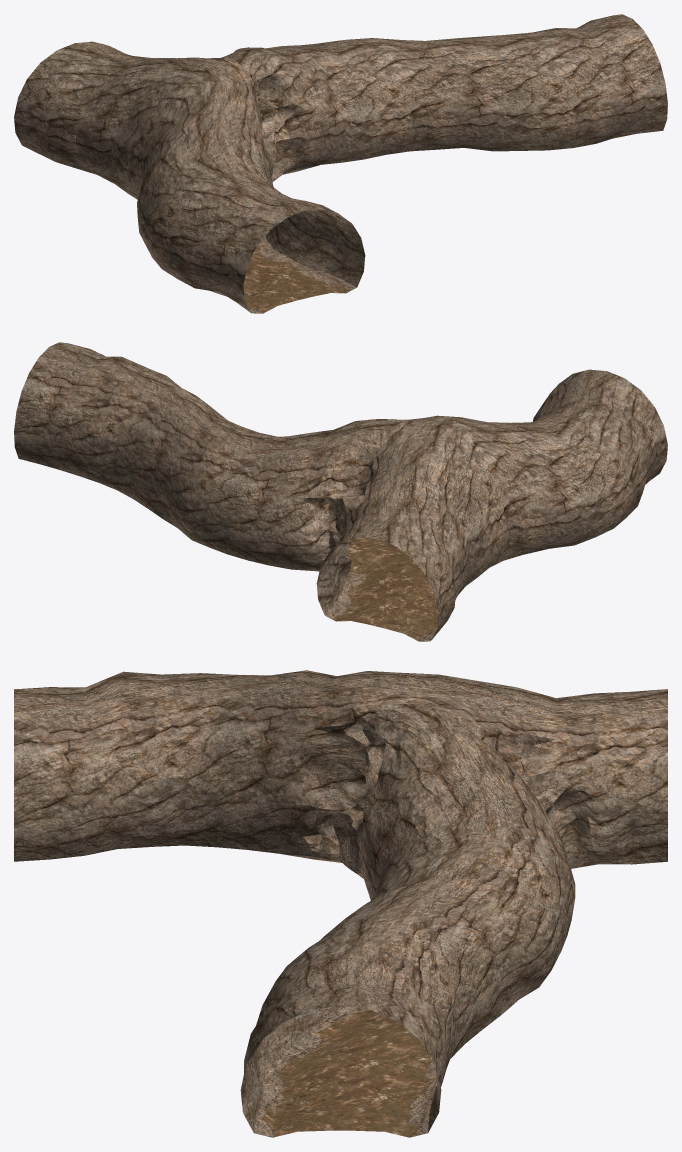
Rendered from CaveCorridorSplit.obj.
3 views of the same model, one above another, from view 1: azimuth 30°, elevation 25°; view 2: azimuth 150°, elevation 25°; view 3: azimuth 270°, elevation 25° (orthographic). The views are drawn at different scales.
Visible parts, largest first — view 1: CaveCorridorSplit; view 2: CaveCorridorSplit; view 3: CaveCorridorSplit.
Part boxes in pixels (bbox=[...]): CaveCorridorSplit: bbox=[14, 14, 667, 313]; CaveCorridorSplit: bbox=[14, 342, 667, 641]; CaveCorridorSplit: bbox=[14, 670, 667, 1137].
Size of the model in its own units: 13.76 by 3.17 by 10.4.
